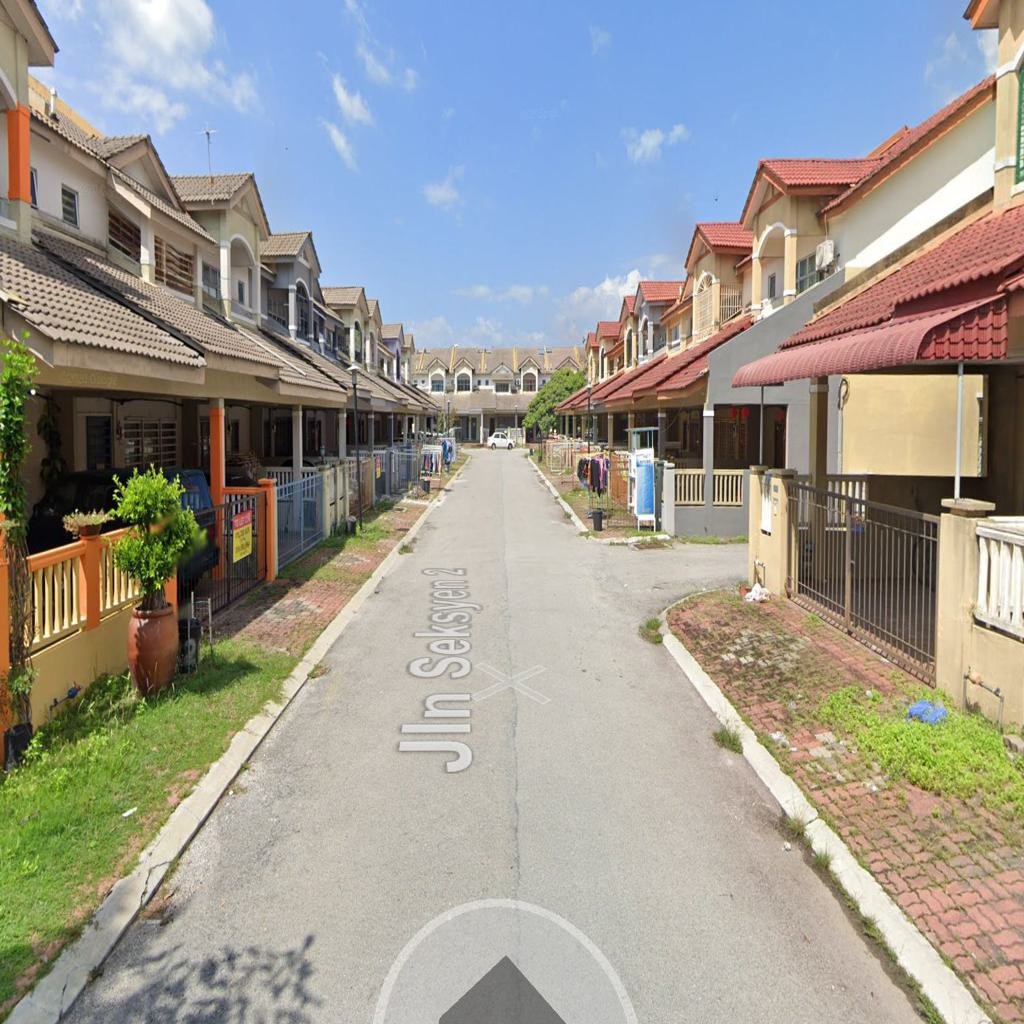Junction: (576, 506, 744, 636)
